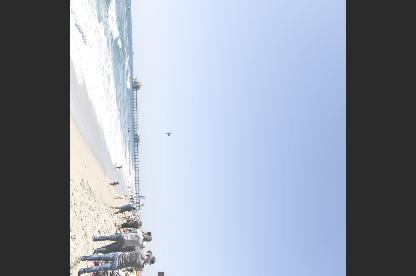A10: (166, 130, 172, 134)
